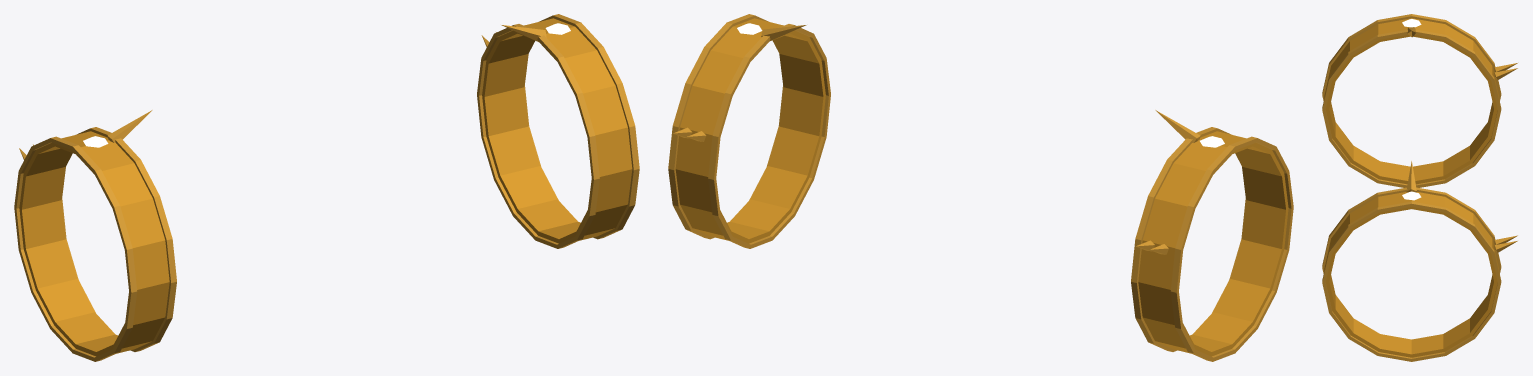
Rendered from armor_lord_arms_legendary_orc.glb.
3 renders of one model, left to right at view 1: azimuth 30°, elevation 25°; view 2: azimuth 150°, elevation 25°; view 3: azimuth 270°, elevation 25°, orthographic. The views are drawn at different scales.
Parts seen in each view (by area): view 1: armor_lord_arms_legendary_orc__lowerarm_r, armor_lord_arms_legendary_orc__lowerarm_l; view 2: armor_lord_arms_legendary_orc__lowerarm_r, armor_lord_arms_legendary_orc__lowerarm_l; view 3: armor_lord_arms_legendary_orc__lowerarm_l, armor_lord_arms_legendary_orc__lowerarm_r.
Part boxes in pixels (left/top/right/bottom): armor_lord_arms_legendary_orc__lowerarm_r: left=14, top=110, right=176, bottom=361; armor_lord_arms_legendary_orc__lowerarm_l: left=477, top=14, right=639, bottom=248; armor_lord_arms_legendary_orc__lowerarm_r: left=1131, top=110, right=1293, bottom=361; armor_lord_arms_legendary_orc__lowerarm_l: left=668, top=14, right=830, bottom=248; armor_lord_arms_legendary_orc__lowerarm_l: left=1322, top=161, right=1517, bottom=361; armor_lord_arms_legendary_orc__lowerarm_r: left=1322, top=14, right=1517, bottom=187.
Bounding box in the file's own units: 119 × 50.33 × 52.25.
